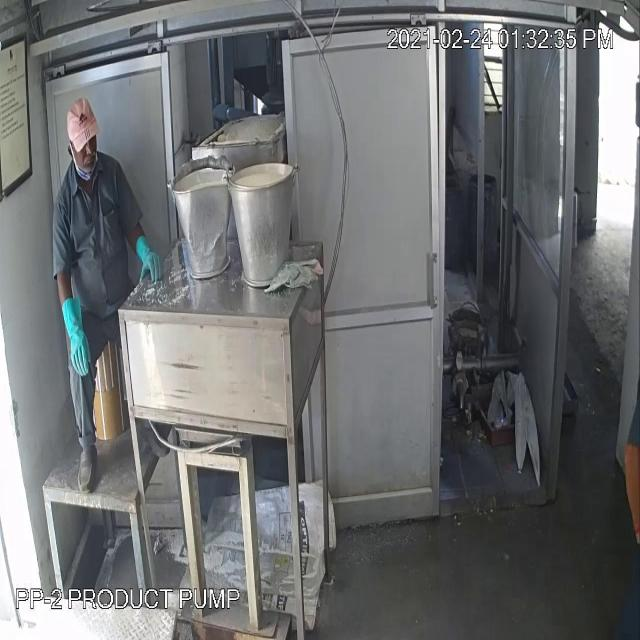no-helmet: (60, 90, 111, 162)
